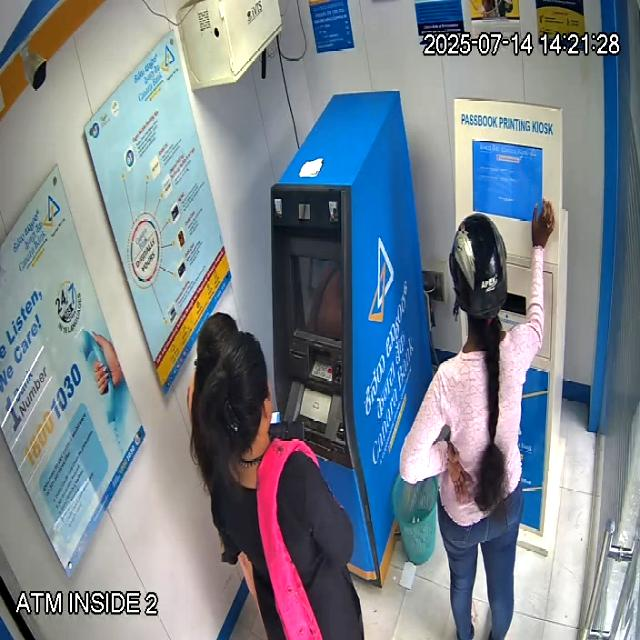helmet: (448, 213, 508, 319)
no_helmet: (192, 311, 273, 466)
